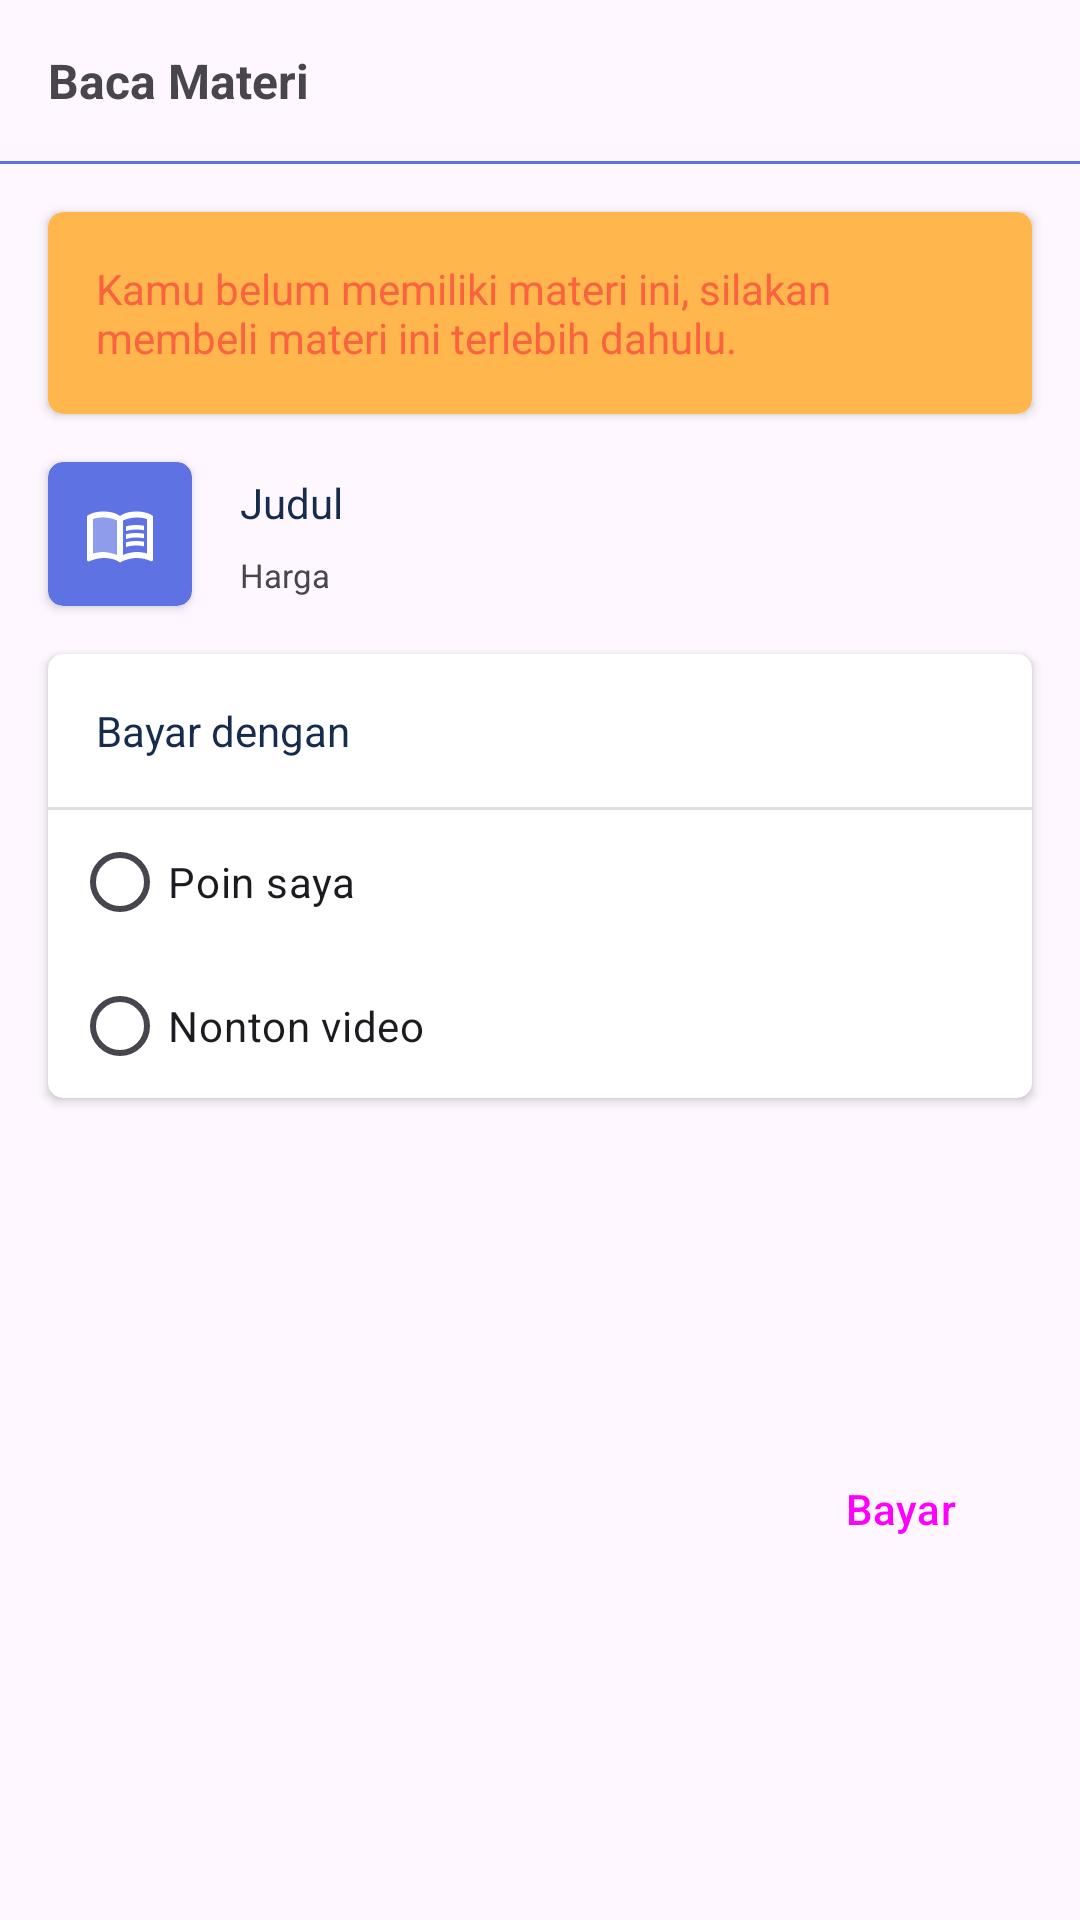

Locate icon controls on the screen. Image size 1080×1920, boxes as (x1, y1, x2, y2).
book: (87, 511, 153, 563)
